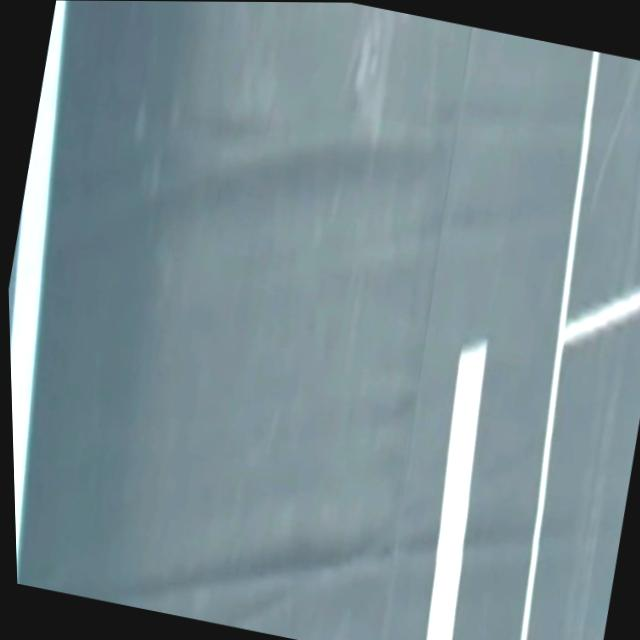center: (425, 342, 486, 640)
left: (10, 0, 65, 570)
